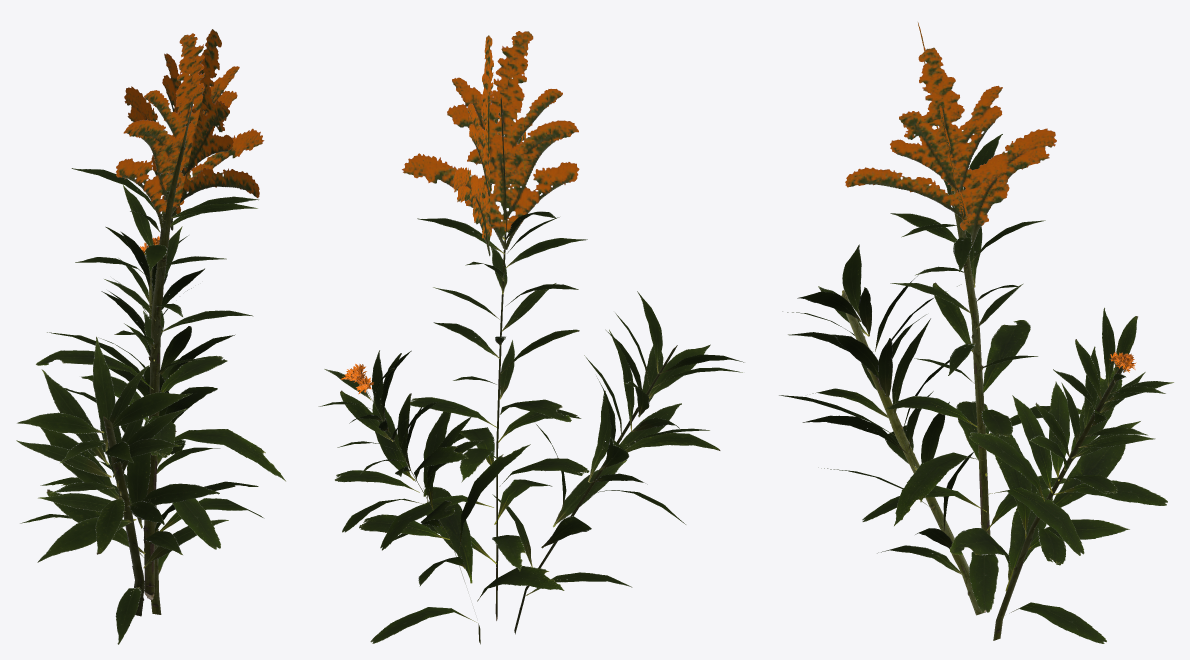
Rendered from GoldenRodFlowerClumpMedDetail.fbx.
3 views of the same model, side by side, from view 1: azimuth 30°, elevation 25°; view 2: azimuth 150°, elevation 25°; view 3: azimuth 270°, elevation 25° (orthographic). The views are drawn at different scales.
Visible parts, largest first — view 1: _ctws_VarD_LOD3; view 2: _ctws_VarD_LOD3; view 3: _ctws_VarD_LOD3.
Boxes of the visible parts, x1,y1,x2,y2 form: _ctws_VarD_LOD3: (16, 29, 285, 644); _ctws_VarD_LOD3: (318, 31, 744, 644); _ctws_VarD_LOD3: (779, 22, 1173, 643).
Bounding box in the file's own units: 49.88 × 94.54 × 54.9.
